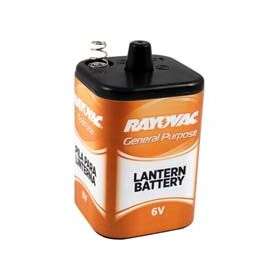6V: (71, 37, 199, 243)
